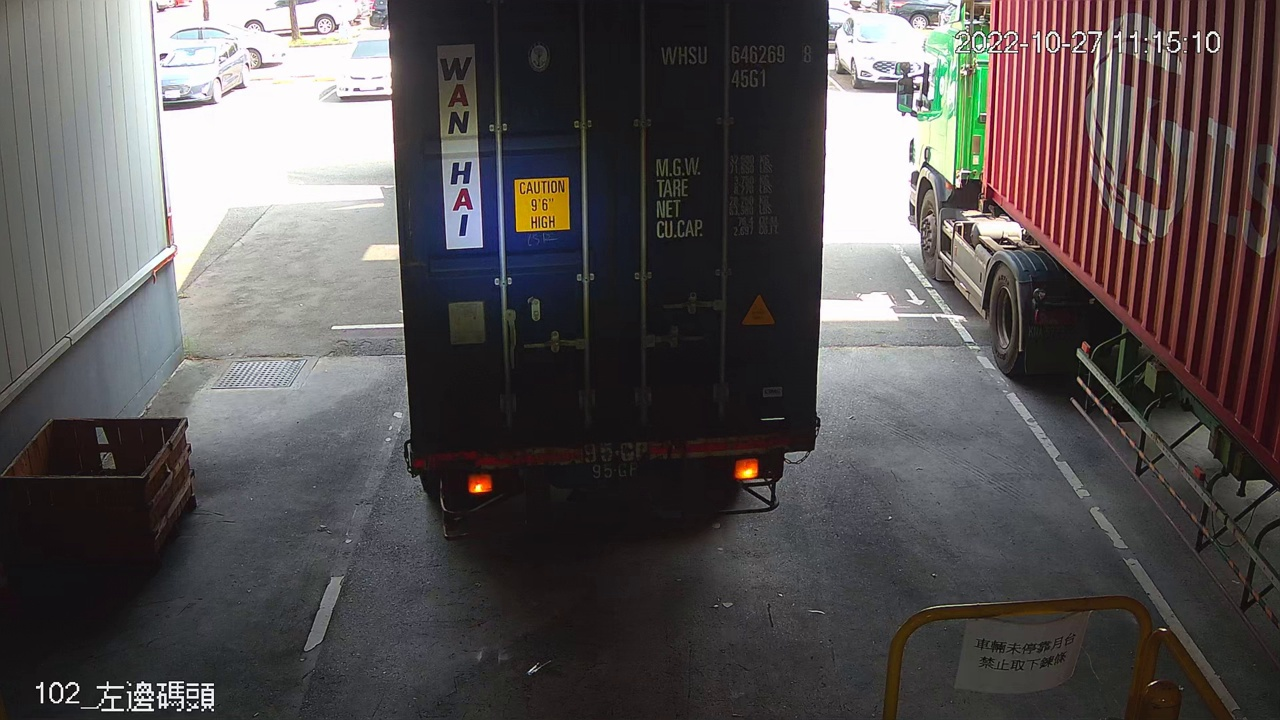container: (655, 36, 819, 94)
